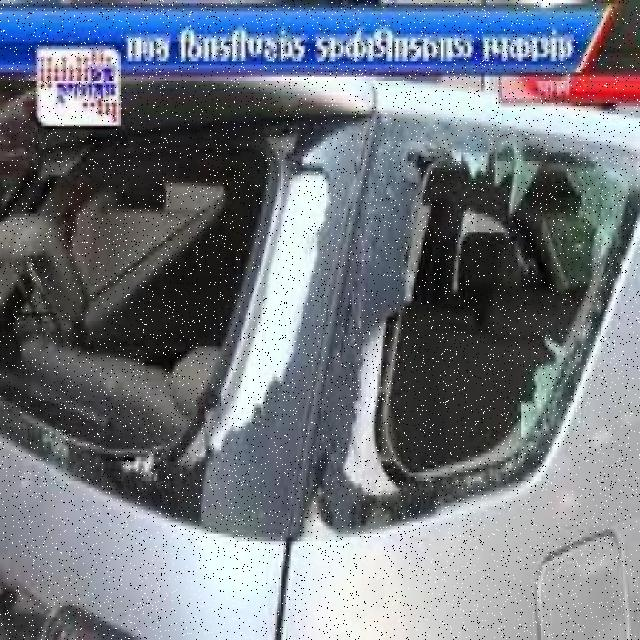damage: (1, 107, 333, 486), (325, 131, 620, 529)
